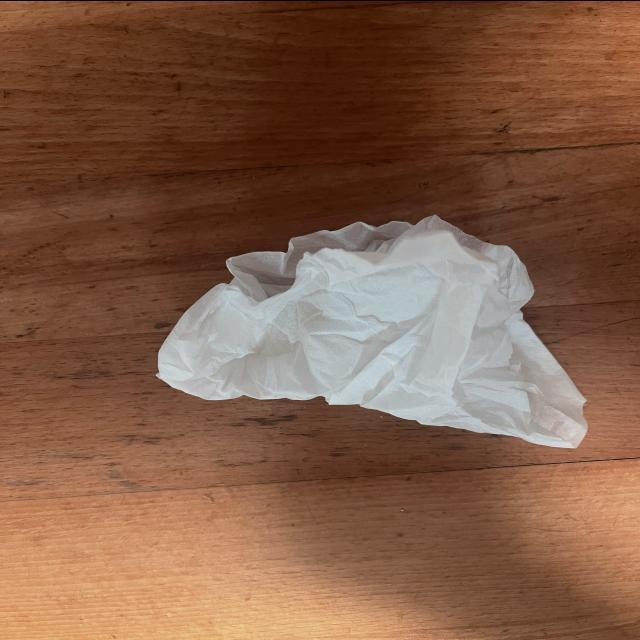Paper: (147, 206, 592, 475)
